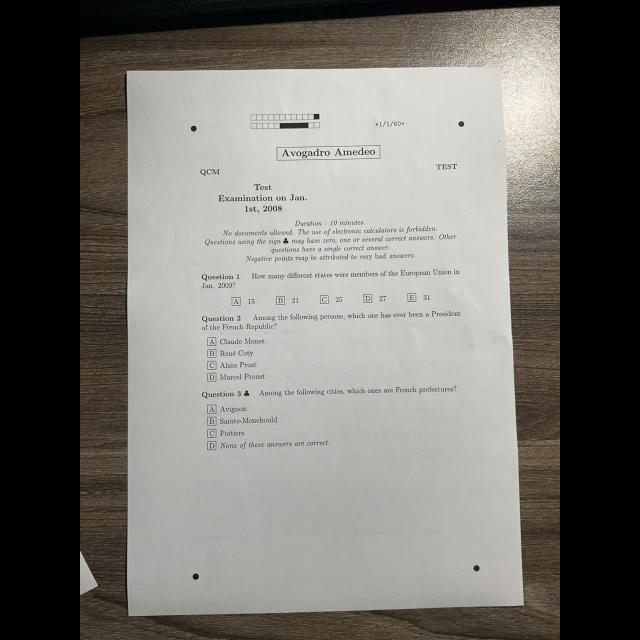Markers: (474, 564, 480, 572), (192, 574, 200, 580), (191, 126, 197, 132), (458, 121, 464, 127)
